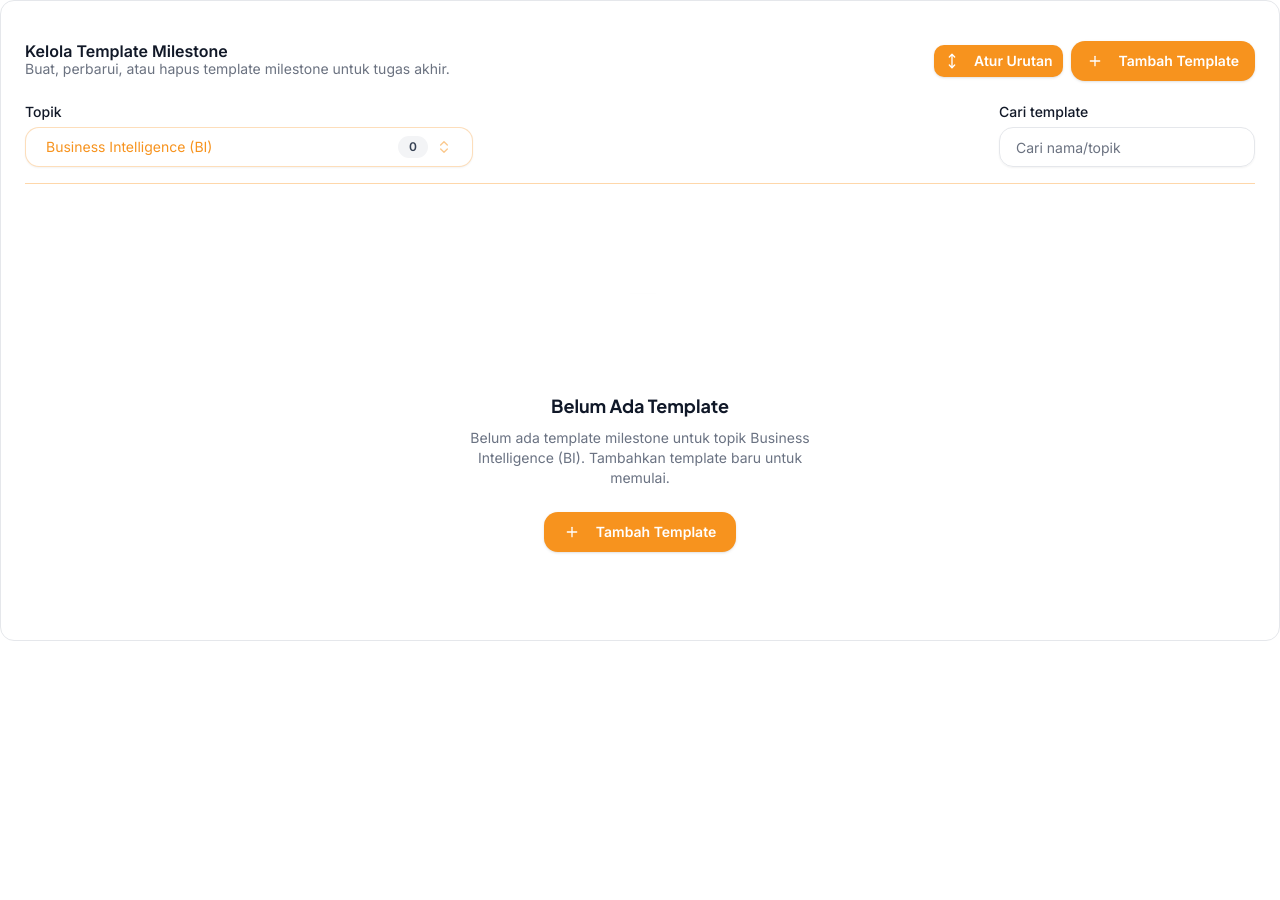
Test: TemplateManagementPanel › empty topic: EmptyState with a 'Tambah Template' button that opens the add dialog
Expected: the heading "Belum Ada Template" is shown, [551,392,729,420]
Step 1. Click the 2nd button "Tambah Template" → click(640, 532), box [544,512,736,552]
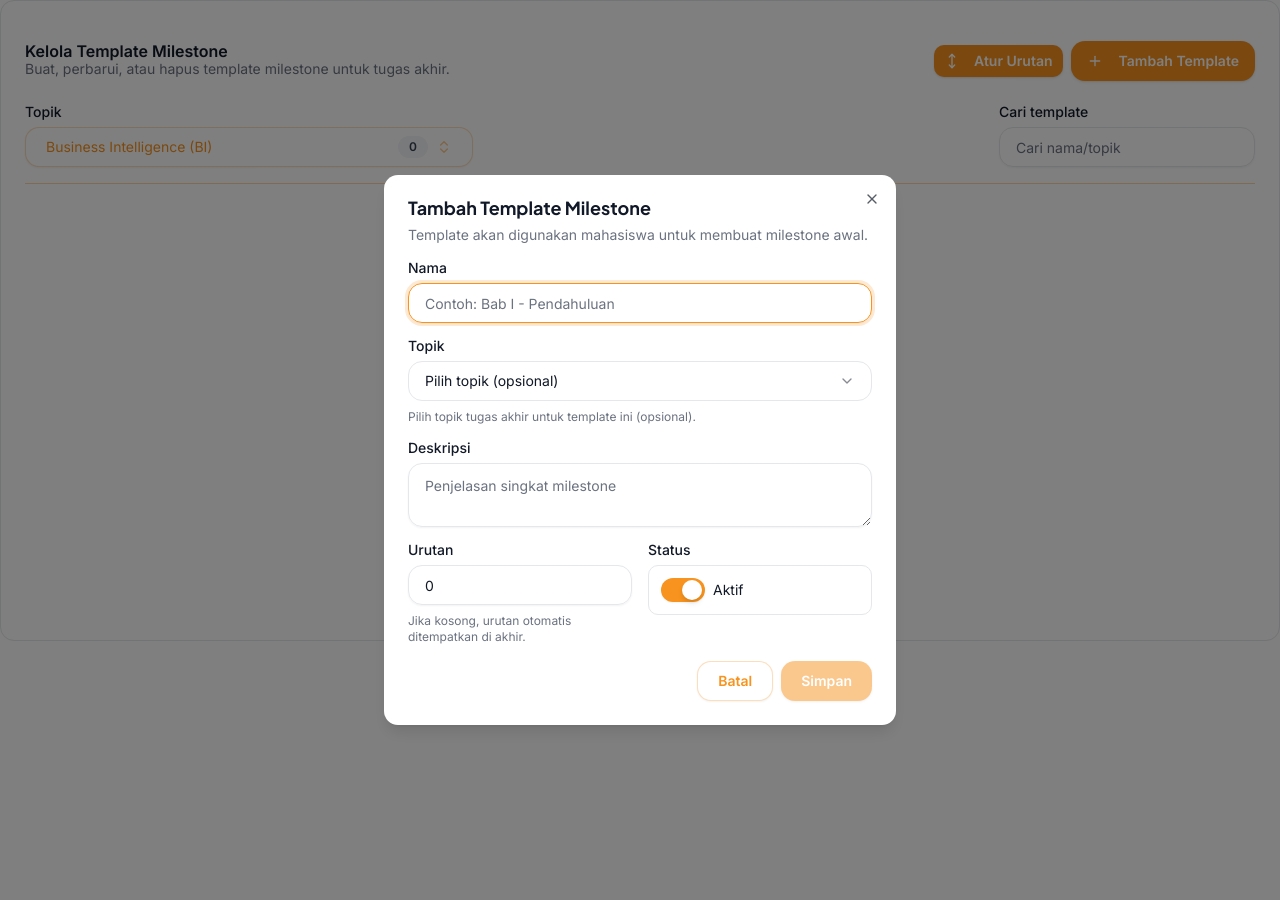
Expected: the dialog is shown, [384,175,896,725]
